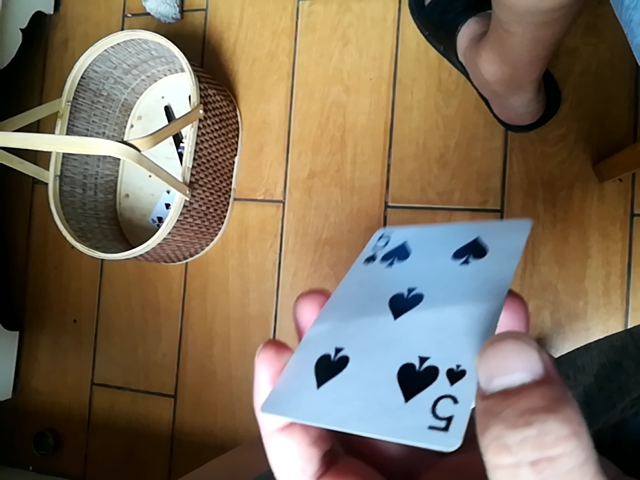ht 5: (260, 220, 527, 457)
